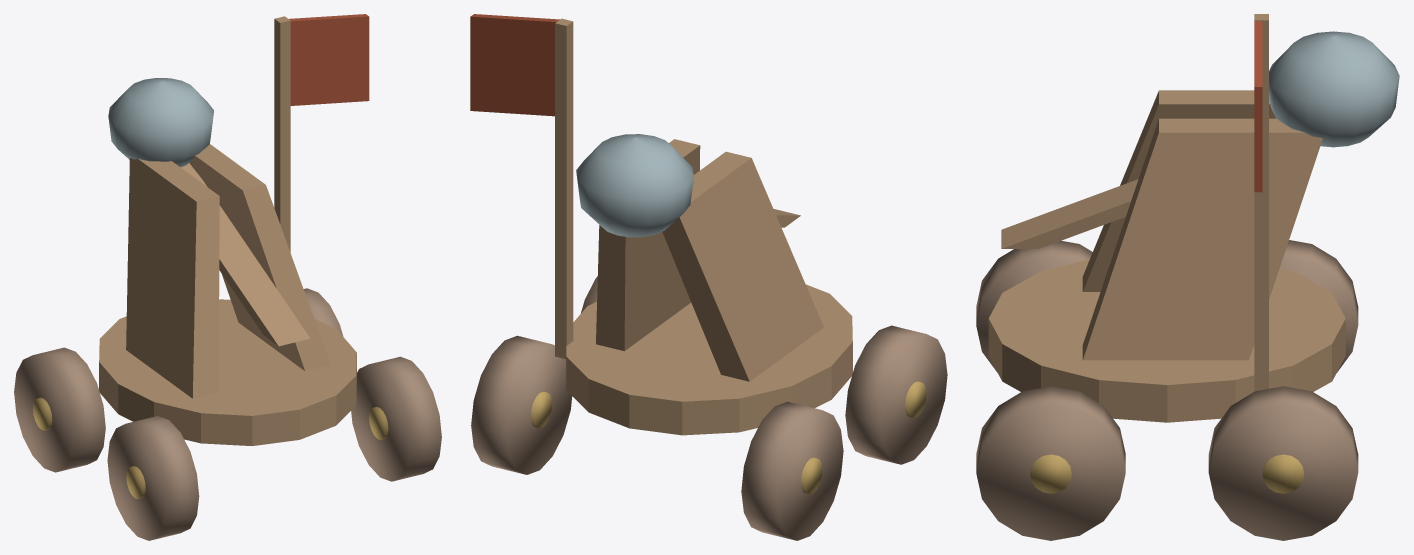
File: catapult.glb
3 views of the same model, side by side, from view 1: azimuth 30°, elevation 25°; view 2: azimuth 150°, elevation 25°; view 3: azimuth 270°, elevation 25° (orthographic). The views are drawn at different scales.
Visible parts, largest first — view 1: Siege deck, A frame, A frame.001, Wheel carved rim, Wheel carved rim.001, Wheel carved rim.002, Sling stone, Regional siege banner, Throwing arm, Flagpole, Wheel carved rim.003, Wheel hub (+2 smaller); view 2: Siege deck, A frame, Wheel carved rim.001, Wheel carved rim, Wheel carved rim.003, Sling stone, A frame.001, Regional siege banner, Flagpole, Wheel hub.001, Wheel hub, Wheel hub.003; view 3: A frame.001, Siege deck, Wheel carved rim.003, Wheel carved rim.002, Sling stone, A frame, Flagpole, Throwing arm, Wheel carved rim, Wheel carved rim.001, Regional siege banner, Wheel hub.003 (+1 smaller).
Part boxes in pixels (x1,y1,x2,y2): Siege deck: (99, 299, 356, 445); A frame: (126, 158, 219, 398); A frame.001: (189, 144, 330, 371); Wheel carved rim: (107, 416, 199, 540); Wheel carved rim.001: (14, 347, 105, 472); Wheel carved rim.002: (351, 356, 441, 481); Sling stone: (108, 78, 213, 167); Regional siege banner: (289, 14, 369, 105); Throwing arm: (181, 163, 310, 346); Flagpole: (274, 16, 290, 252); Wheel carved rim.003: (303, 288, 343, 336); Wheel hub: (126, 466, 145, 499); Siege deck: (566, 284, 852, 435); A frame: (662, 151, 823, 381); Wheel carved rim.001: (741, 401, 843, 540); Wheel carved rim: (845, 325, 947, 464); Wheel carved rim.003: (471, 335, 572, 474); Sling stone: (576, 134, 693, 237); A frame.001: (596, 139, 700, 351); Regional siege banner: (470, 14, 559, 116); Flagpole: (555, 18, 573, 358); Wheel hub.001: (801, 457, 822, 494); Wheel hub: (905, 381, 926, 418); Wheel hub.003: (530, 391, 552, 428); A frame.001: (1082, 118, 1322, 360); Siege deck: (988, 259, 1345, 422); Wheel carved rim.003: (1208, 386, 1358, 540); Wheel carved rim.002: (976, 386, 1125, 540); Sling stone: (1269, 31, 1399, 147); A frame: (1082, 90, 1276, 291); Flagpole: (1254, 14, 1268, 391); Throwing arm: (1001, 179, 1138, 248); Wheel carved rim: (976, 240, 1092, 372); Wheel carved rim.001: (1280, 240, 1358, 372); Regional siege banner: (1254, 21, 1262, 192); Wheel hub.003: (1262, 454, 1304, 493).
Size of the model in its own units: 1.09 by 1.32 by 1.02.
